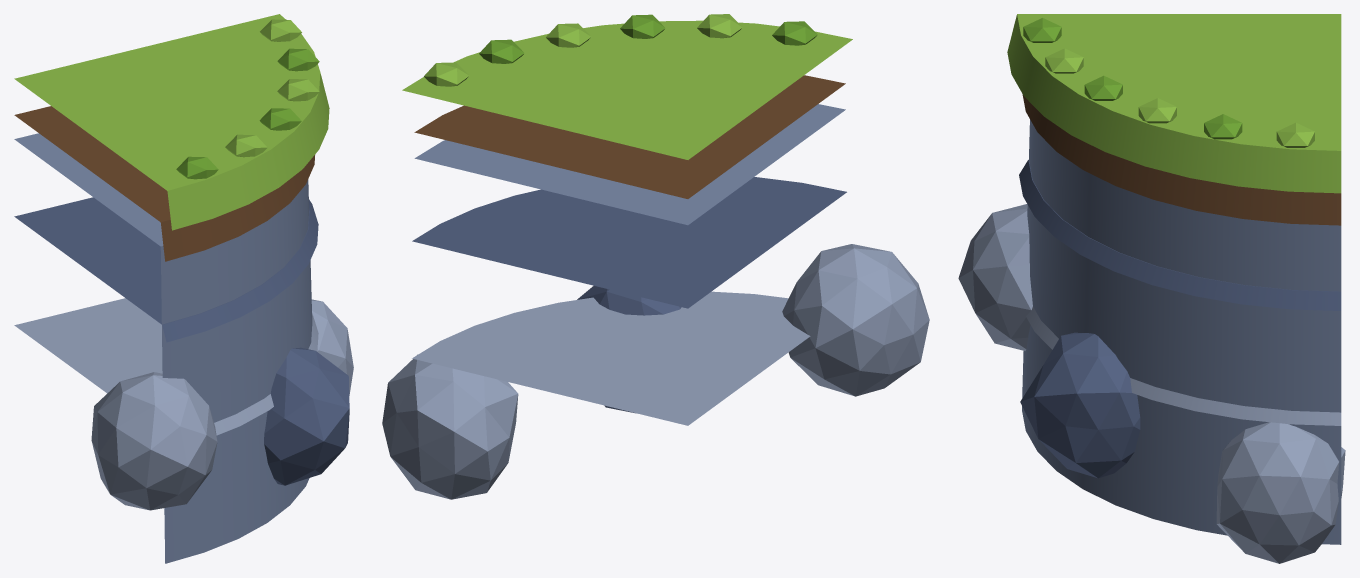
File: islandCliffCorner.glb
The picture shows the model from 3 angles, left to right: view 1: azimuth 30°, elevation 25°; view 2: azimuth 150°, elevation 25°; view 3: azimuth 270°, elevation 25°; orthographic projection. The views are drawn at different scales.
Parts seen in each view (by area): view 1: islandCliffCorner_mesh; view 2: islandCliffCorner_mesh; view 3: islandCliffCorner_mesh.
Part boxes in pixels (x1=…): islandCliffCorner_mesh: x1=14, y1=14, x2=353, y2=563; islandCliffCorner_mesh: x1=382, y1=14, x2=929, y2=499; islandCliffCorner_mesh: x1=958, y1=14, x2=1345, y2=563.
Bounding box in the file's own units: 3.17 × 3.35 × 2.75.
